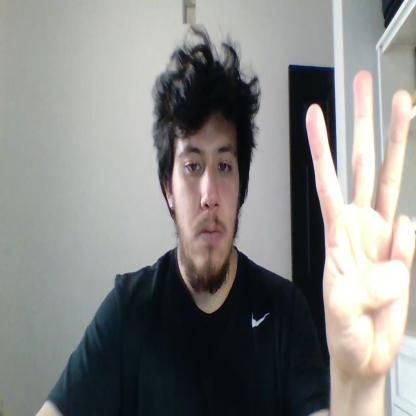W: (306, 68, 415, 385)
